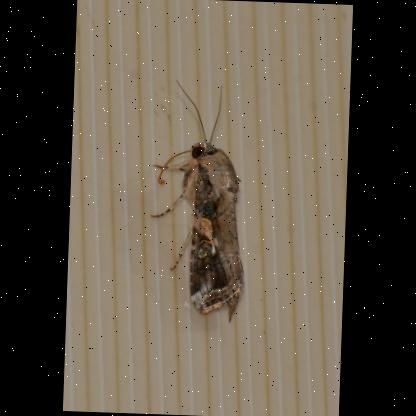Fall Armyworm Moth: (142, 77, 254, 326)
